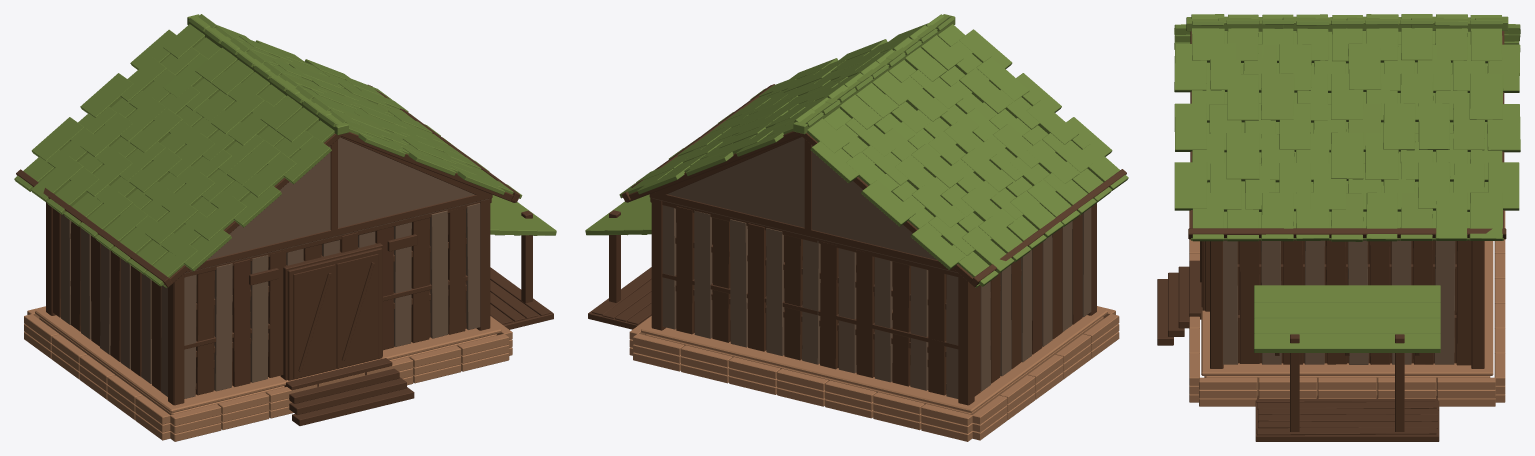
Rendered from building_barn_b.glb.
The picture shows the model from 3 angles, left to right: view 1: azimuth 30°, elevation 25°; view 2: azimuth 150°, elevation 25°; view 3: azimuth 270°, elevation 25°; orthographic projection. The views are drawn at different scales.
Parts seen in each view (by area): view 1: building_barn_b_LOD0; view 2: building_barn_b_LOD0; view 3: building_barn_b_LOD0.
Part boxes in pixels (<box>): building_barn_b_LOD0: <box>14,14,556,441</box>; building_barn_b_LOD0: <box>585,14,1128,441</box>; building_barn_b_LOD0: <box>1157,14,1520,441</box>.
Size of what is drawn, in the model's own units: 10.86 by 6.78 by 7.48.
